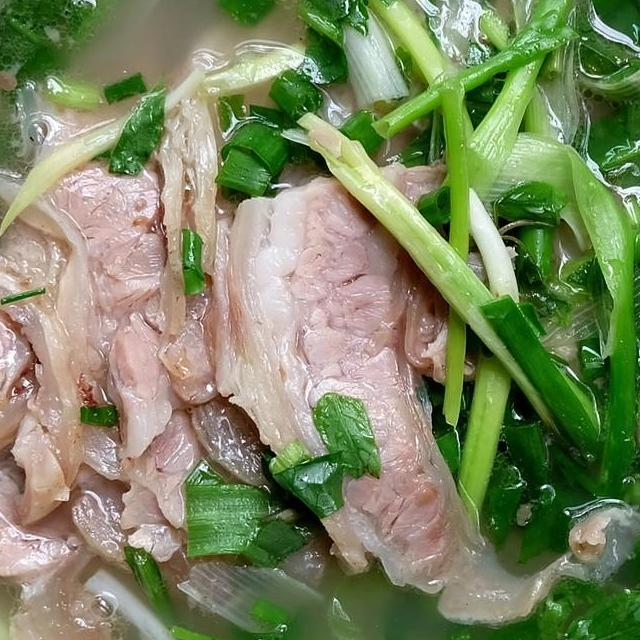thit bo: (183, 153, 640, 632), (8, 57, 248, 466), (0, 425, 147, 640), (0, 207, 124, 434)
